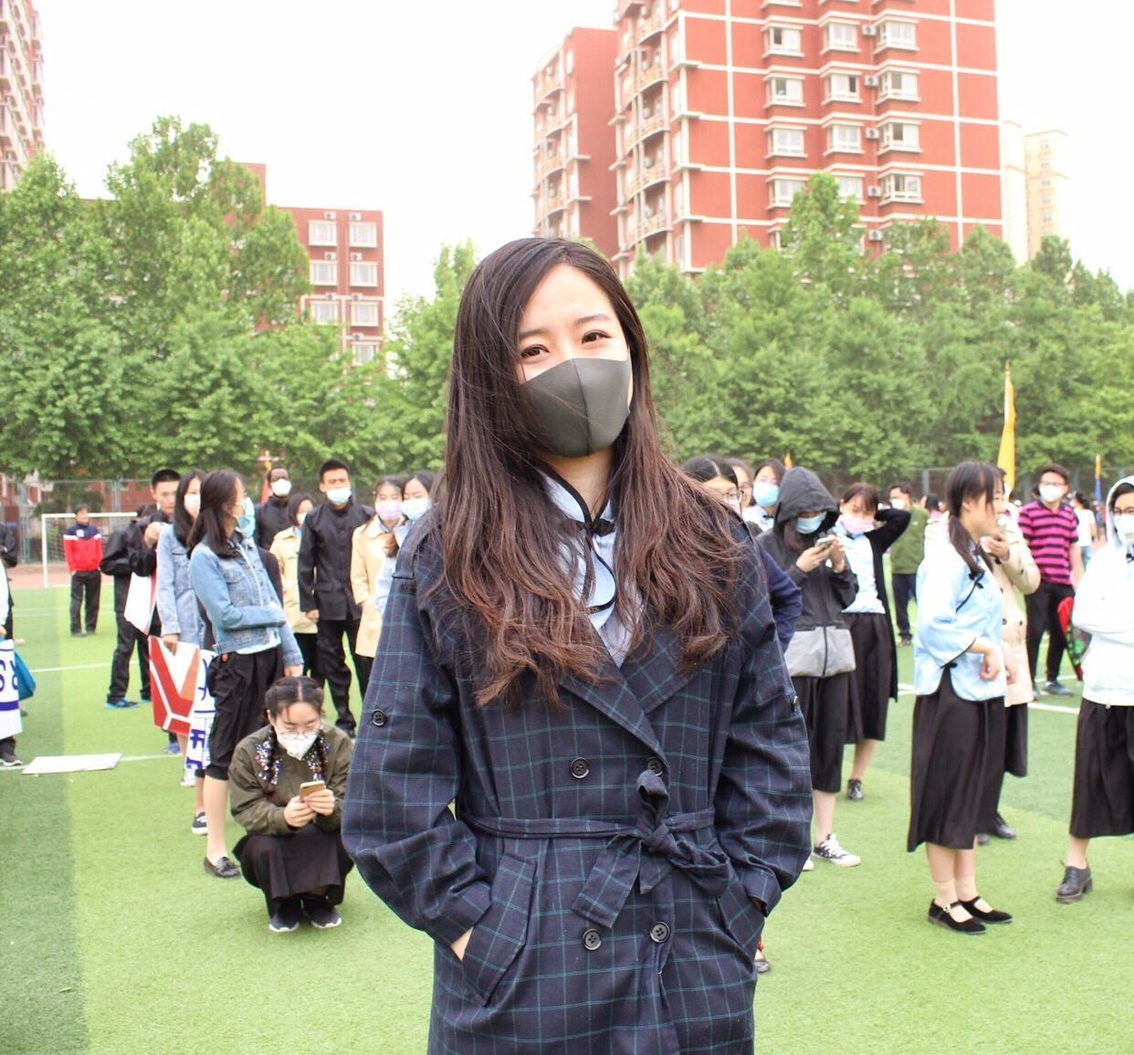NONE: (967, 486, 1005, 533), (160, 489, 183, 515)
OK: (497, 307, 640, 450), (279, 715, 319, 755), (221, 488, 255, 531), (842, 502, 881, 536), (790, 503, 826, 537), (752, 473, 784, 506), (1115, 499, 1134, 545), (375, 489, 401, 522), (404, 487, 432, 517), (184, 489, 210, 518), (327, 471, 352, 501), (1040, 477, 1066, 505), (889, 492, 910, 514), (272, 476, 293, 497), (298, 506, 317, 529)
